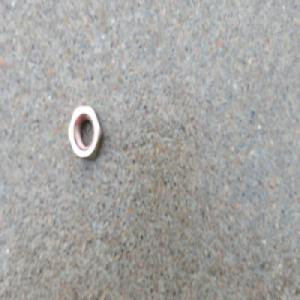Nut: (67, 103, 102, 162)
